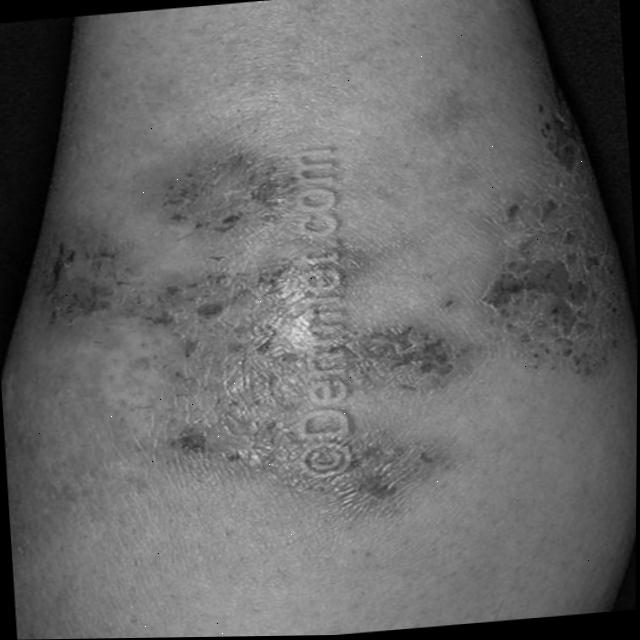Eczema: (26, 141, 436, 554), (468, 104, 627, 376)
